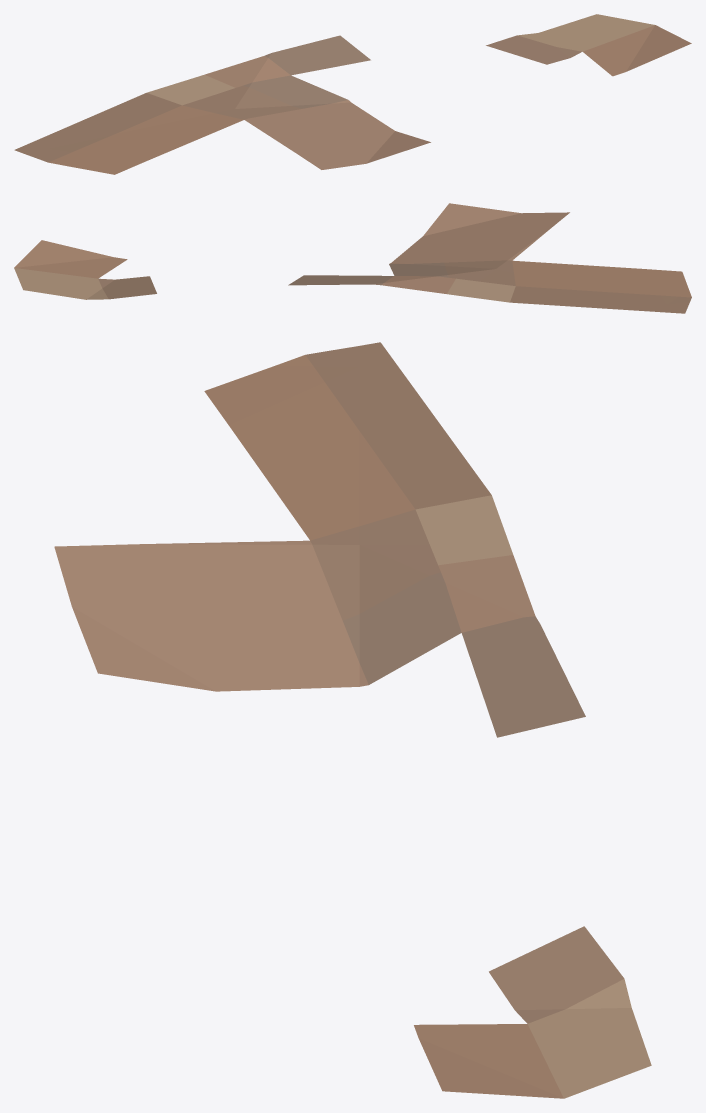
Rendered from farm_43_25_soil.glb.
The picture shows the model from 3 angles, top to bottom: view 1: azimuth 30°, elevation 25°; view 2: azimuth 150°, elevation 25°; view 3: azimuth 270°, elevation 25°; orthographic projection. The views are drawn at different scales.
Visible parts, largest first — view 1: geometry_0; view 2: geometry_0; view 3: geometry_0.
Part boxes in pixels (x1,y1,x2,y2): geometry_0: (14, 14, 691, 174); geometry_0: (14, 203, 691, 313); geometry_0: (54, 342, 651, 1098).
Size of the model in its own units: 294 by 32.91 by 121.
